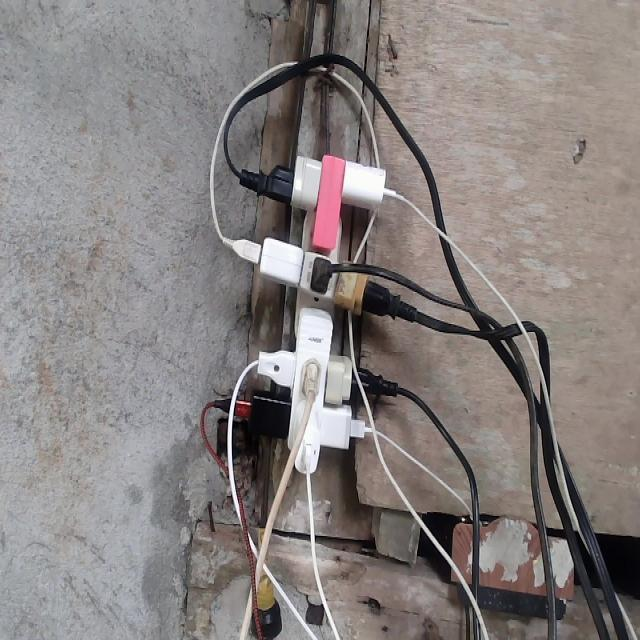-: (215, 153, 405, 475)
